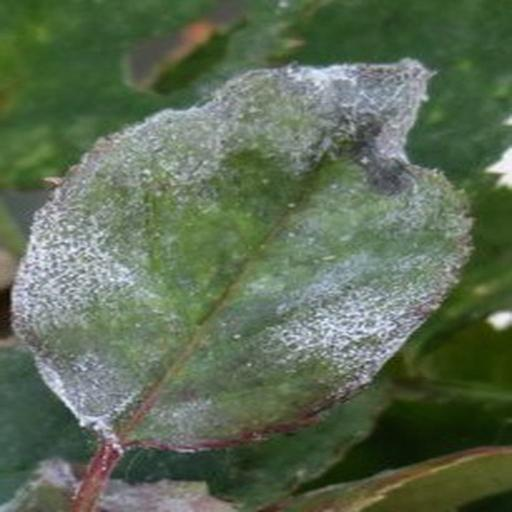powdery_mildew: (13, 60, 470, 450)
